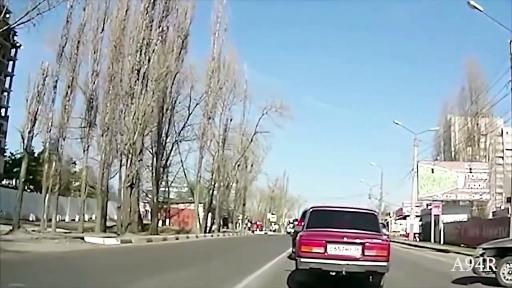CAR: (246, 164, 420, 288)
